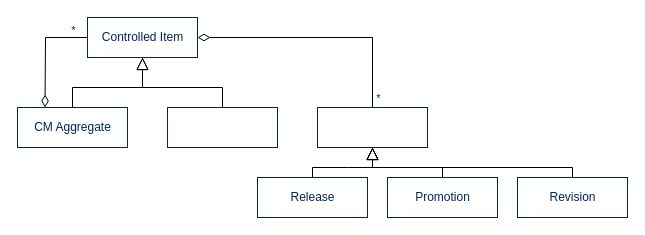
The diagram is 645 pixels wide and 235 high, and some of its shapes have lost their labels. Here are the shapes that lost their labels. From the top down, the box of each, then its label:
(166, 106, 278, 148): Configuration Item
(316, 106, 428, 148): Version
